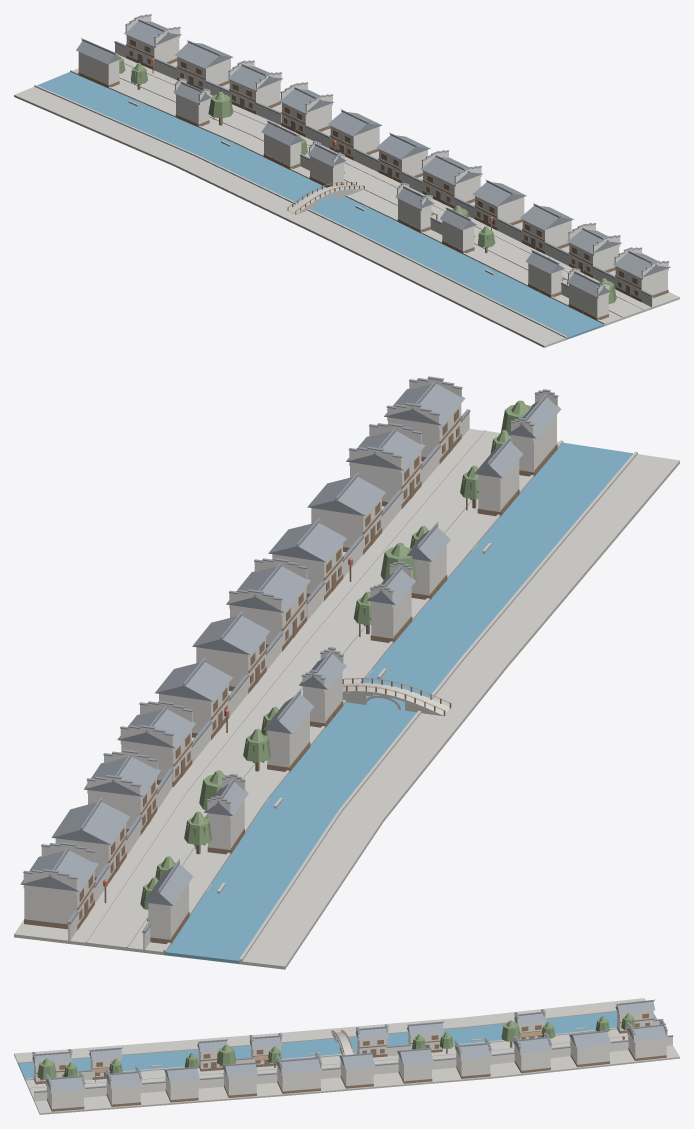
The model's file is pingjiang.glb.
3 views of the same model, one above another, from view 1: azimuth 30°, elevation 25°; view 2: azimuth 150°, elevation 25°; view 3: azimuth 270°, elevation 25° (orthographic). The views are drawn at different scales.
Visible parts, largest first — view 1: pj_stone, pj_wall_white, pj_water, pj_tile, pj_wood, pj_leaf; view 2: pj_stone, pj_water, pj_wall_white, pj_tile, pj_wood, pj_leaf; view 3: pj_stone, pj_wall_white, pj_tile, pj_water, pj_wood, pj_leaf.
Part boxes in pixels (bbox=[...]): pj_stone: bbox=[14, 55, 679, 347]; pj_wall_white: bbox=[78, 16, 668, 317]; pj_water: bbox=[37, 72, 603, 339]; pj_tile: bbox=[76, 14, 670, 296]; pj_wood: bbox=[78, 39, 668, 320]; pj_leaf: bbox=[116, 53, 616, 303]; pj_stone: bbox=[14, 428, 679, 969]; pj_water: bbox=[164, 442, 632, 963]; pj_wall_white: bbox=[23, 378, 557, 949]; pj_tile: bbox=[20, 376, 561, 933]; pj_wood: bbox=[24, 409, 557, 944]; pj_leaf: bbox=[140, 400, 531, 909]; pj_stone: bbox=[14, 998, 679, 1114]; pj_wall_white: bbox=[32, 1010, 672, 1108]; pj_tile: bbox=[32, 999, 673, 1092]; pj_water: bbox=[18, 1011, 656, 1080]; pj_wood: bbox=[33, 1013, 666, 1111]; pj_leaf: bbox=[37, 1013, 635, 1079].
Size of the model in its own units: 77.72 by 9.66 by 190.
